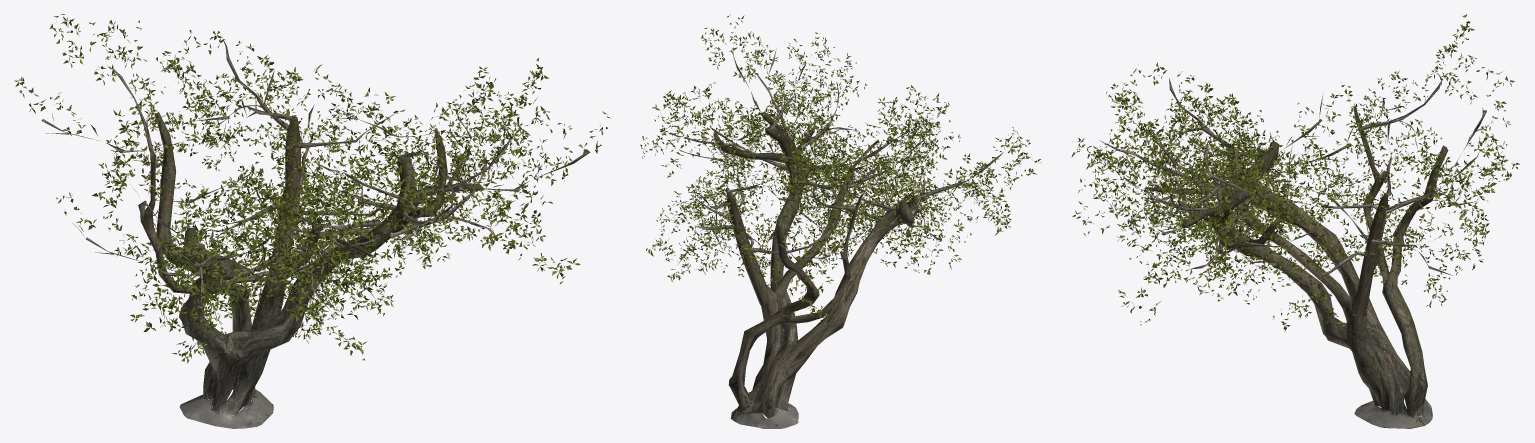
File: urban-tree-lod1-compact.glb
3 renders of one model, left to right at view 1: azimuth 30°, elevation 25°; view 2: azimuth 150°, elevation 25°; view 3: azimuth 270°, elevation 25°, orthographic. The views are drawn at different scales.
Parts seen in each view (by area): view 1: island_tree_02_LOD0.002, island_tree_02_LOD0.001, island_tree_02_LOD0; view 2: island_tree_02_LOD0.002, island_tree_02_LOD0.001, island_tree_02_LOD0; view 3: island_tree_02_LOD0.002, island_tree_02_LOD0.001, island_tree_02_LOD0.
Part boxes in pixels (x1,y1,x2,y2): island_tree_02_LOD0.002: (14,14,610,363); island_tree_02_LOD0.001: (138,112,483,428); island_tree_02_LOD0: (41,39,590,349); island_tree_02_LOD0.002: (640,14,1040,323); island_tree_02_LOD0.001: (713,111,920,428); island_tree_02_LOD0: (665,48,1003,286); island_tree_02_LOD0.002: (1071,14,1519,332); island_tree_02_LOD0.001: (1145,106,1448,428); island_tree_02_LOD0: (1099,78,1491,298).
Bounding box in the file's own units: 3.83 × 3.4 × 4.03.
Materials: 3 (3 with a texture image).
